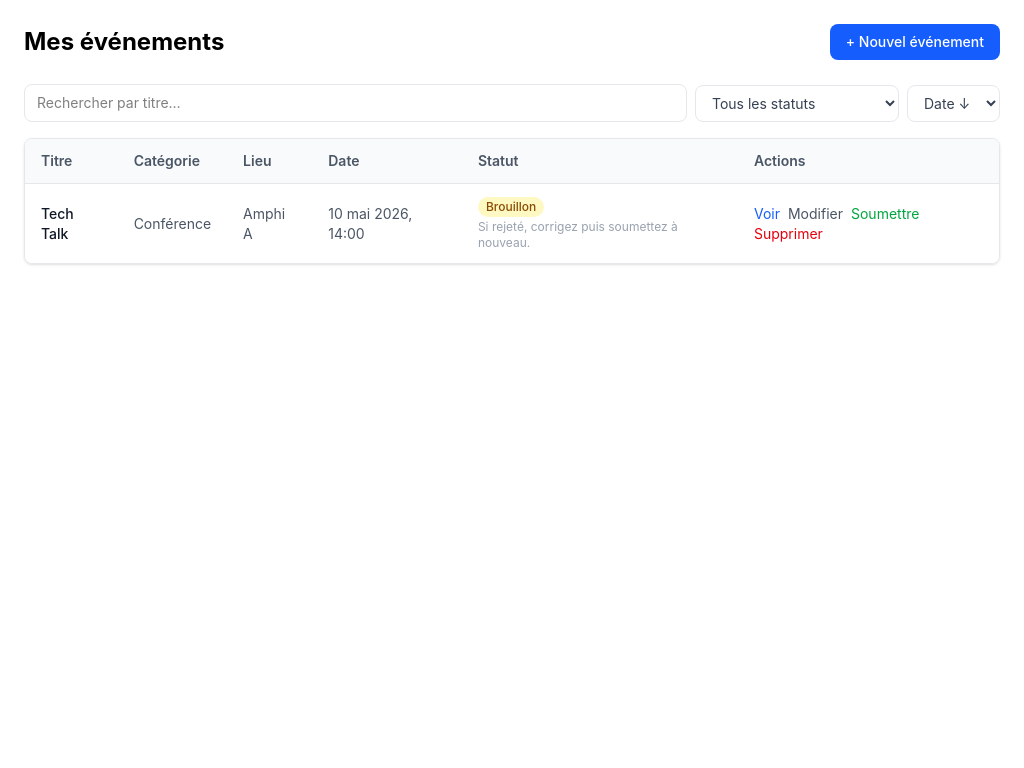
Test: MyEventsPage › closes dialog without deleting when clicking Annuler
The width and height of the screenshot is (1024, 768).
What coordinates should you click on to do the following:
click the button "Supprimer"
I would click on:
 (788, 234)
Its box is x1=754 y1=224 x2=823 y2=244.
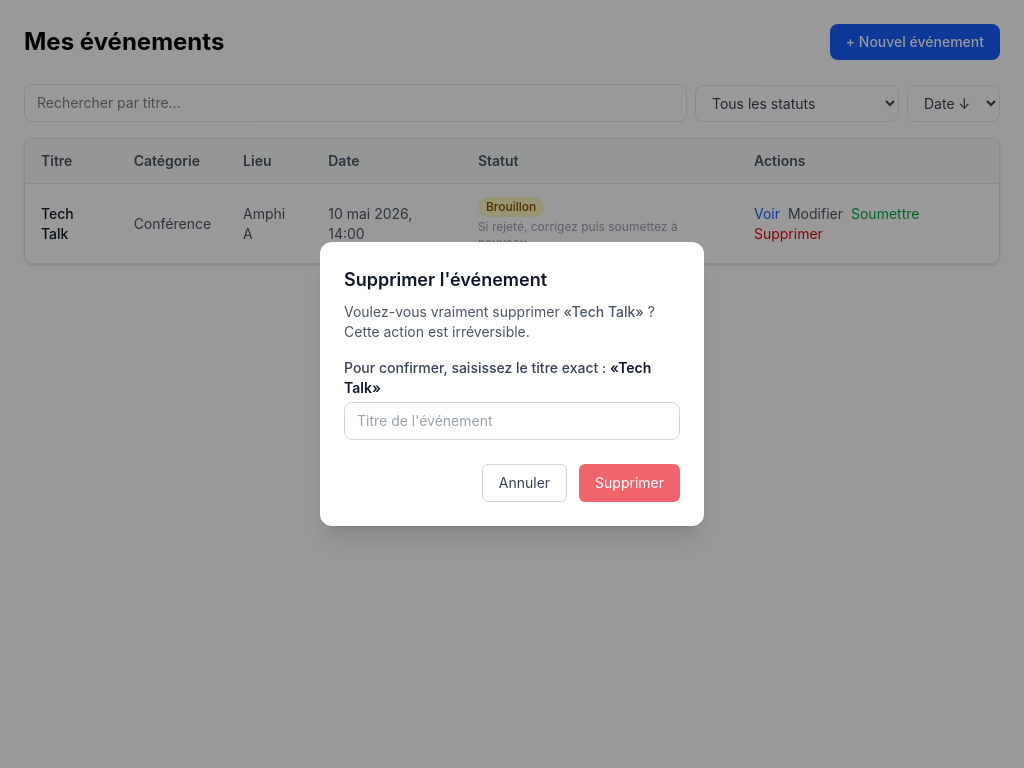
What coordinates should you click on to do the following:
click the button "Annuler"
I would click on:
 (524, 483)
Its box is x1=482 y1=464 x2=567 y2=502.
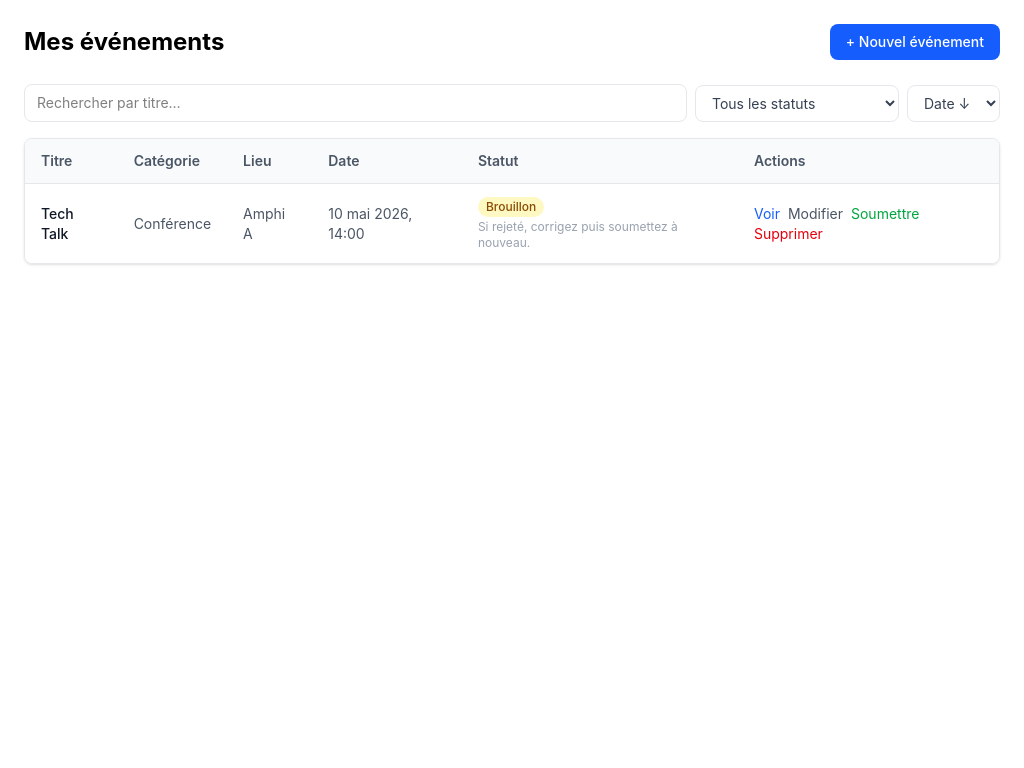
Result: the dialog is gone
